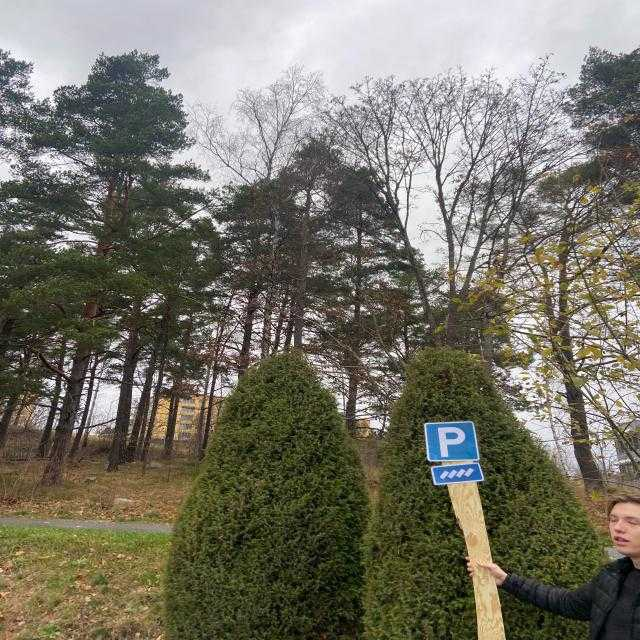psign: (417, 422, 485, 461)
